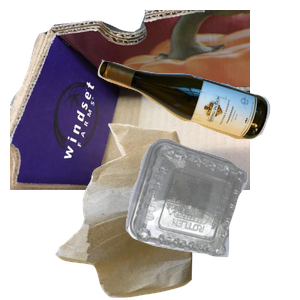cardboard: (10, 10, 250, 190)
glass: (95, 57, 300, 189)
plastic: (123, 136, 300, 300)
trash: (53, 121, 239, 300)
